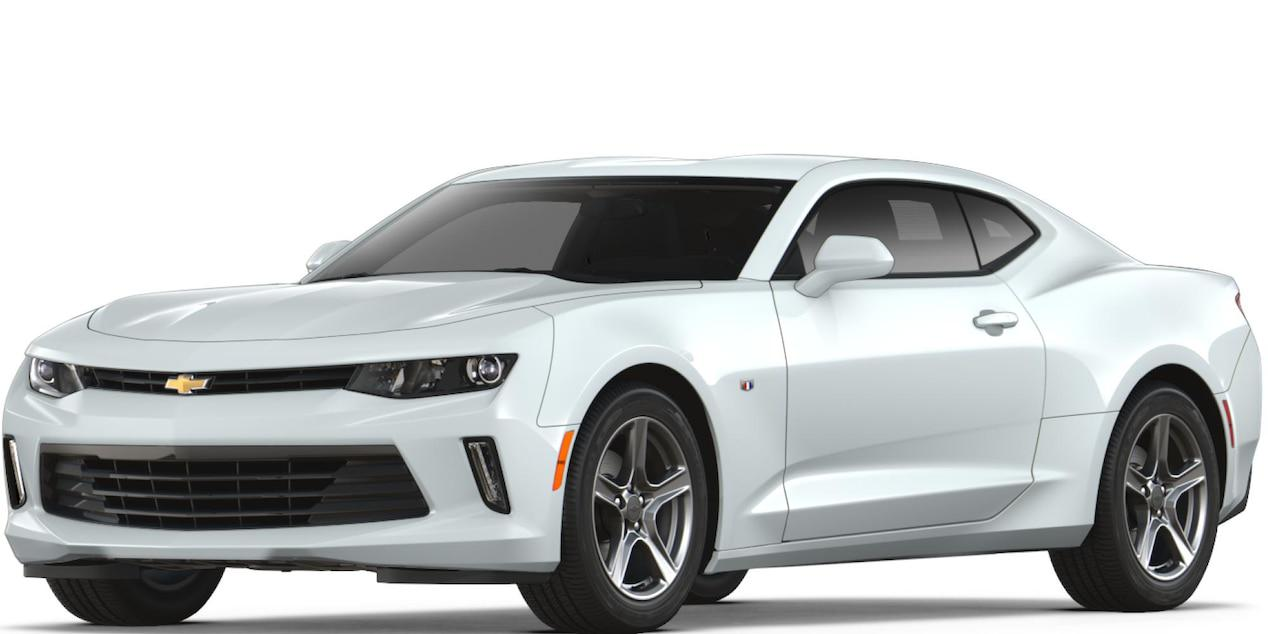car: (2, 125, 1263, 634)
